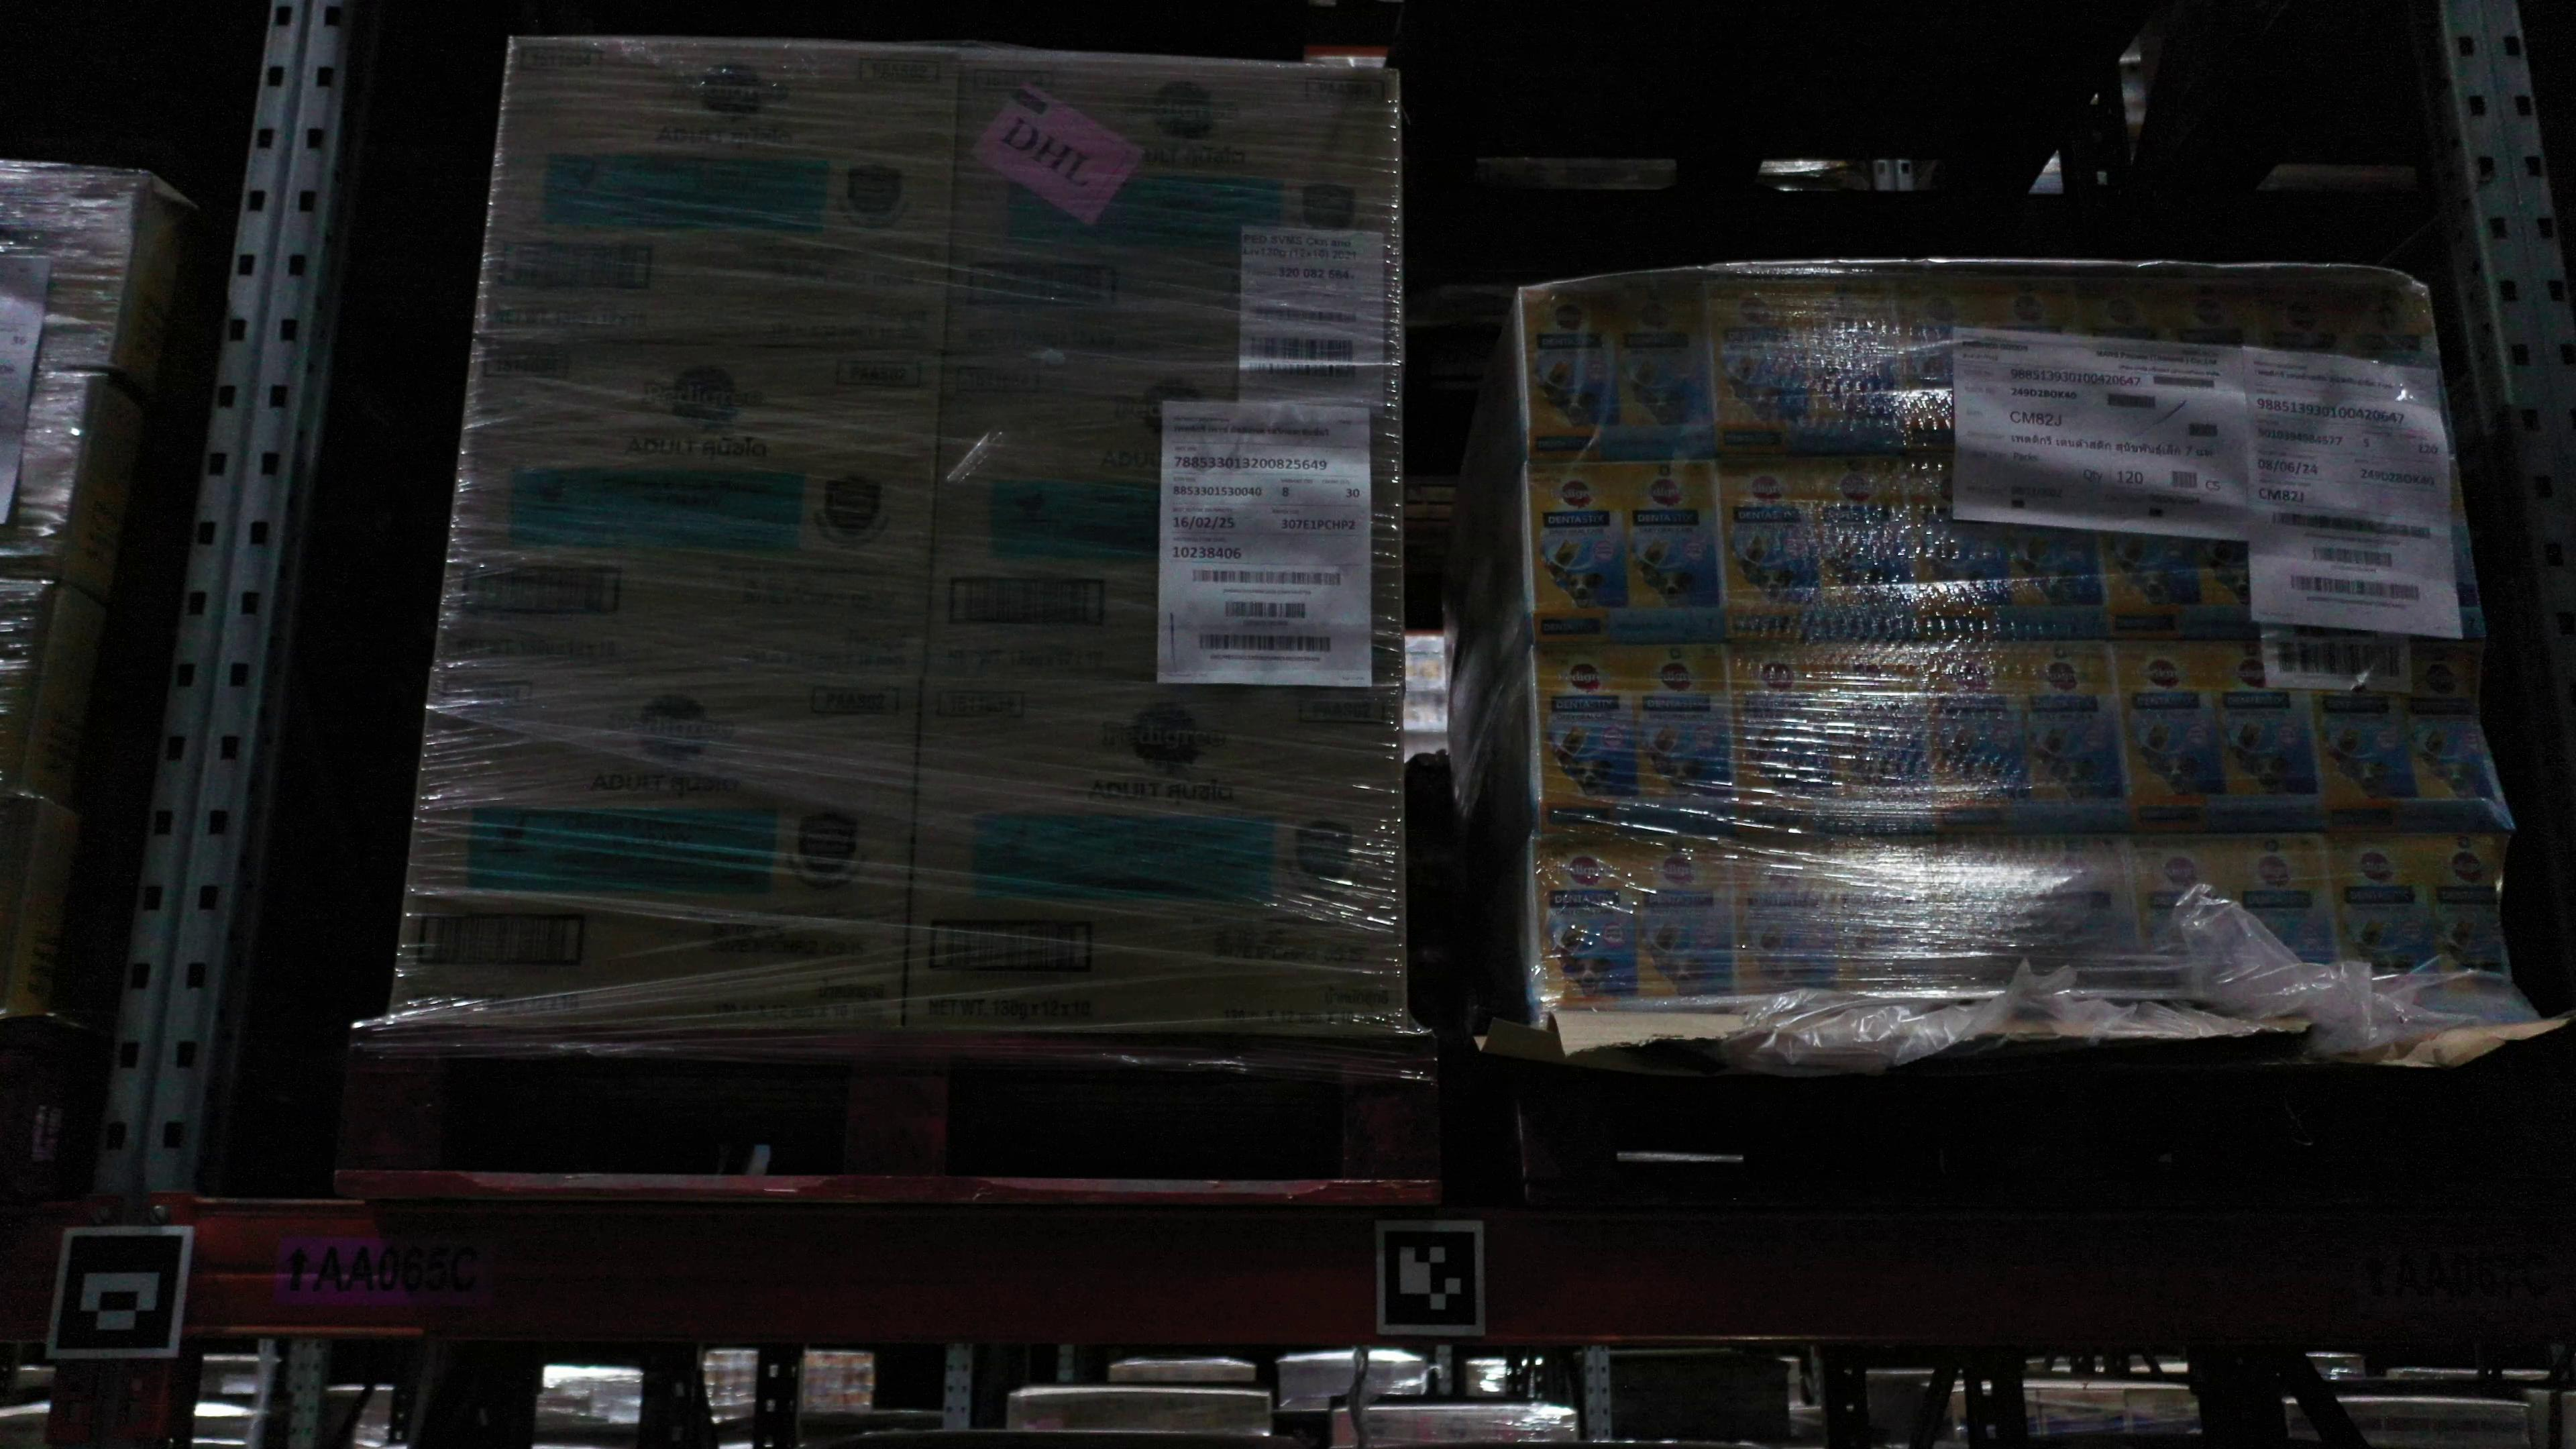-: (389, 667, 925, 1031), (897, 679, 1407, 1035), (430, 338, 941, 678), (924, 354, 1401, 692), (474, 37, 957, 356), (947, 50, 1407, 366), (2111, 639, 2332, 839), (2307, 639, 2519, 839), (2091, 449, 2305, 644), (2277, 451, 2491, 646), (1923, 642, 2141, 833), (1532, 644, 1744, 839), (1734, 639, 1939, 837), (1704, 272, 1914, 460), (1905, 451, 2111, 642), (1529, 458, 1730, 649), (1721, 458, 1921, 646), (1523, 278, 1720, 465), (2256, 271, 2456, 455), (1534, 837, 1739, 1016), (1734, 832, 1939, 1010), (2077, 271, 2273, 455), (1898, 269, 2095, 449), (1930, 832, 2146, 994), (2328, 832, 2518, 1016), (2137, 837, 2344, 989), (0, 168, 147, 366), (0, 372, 108, 584)
